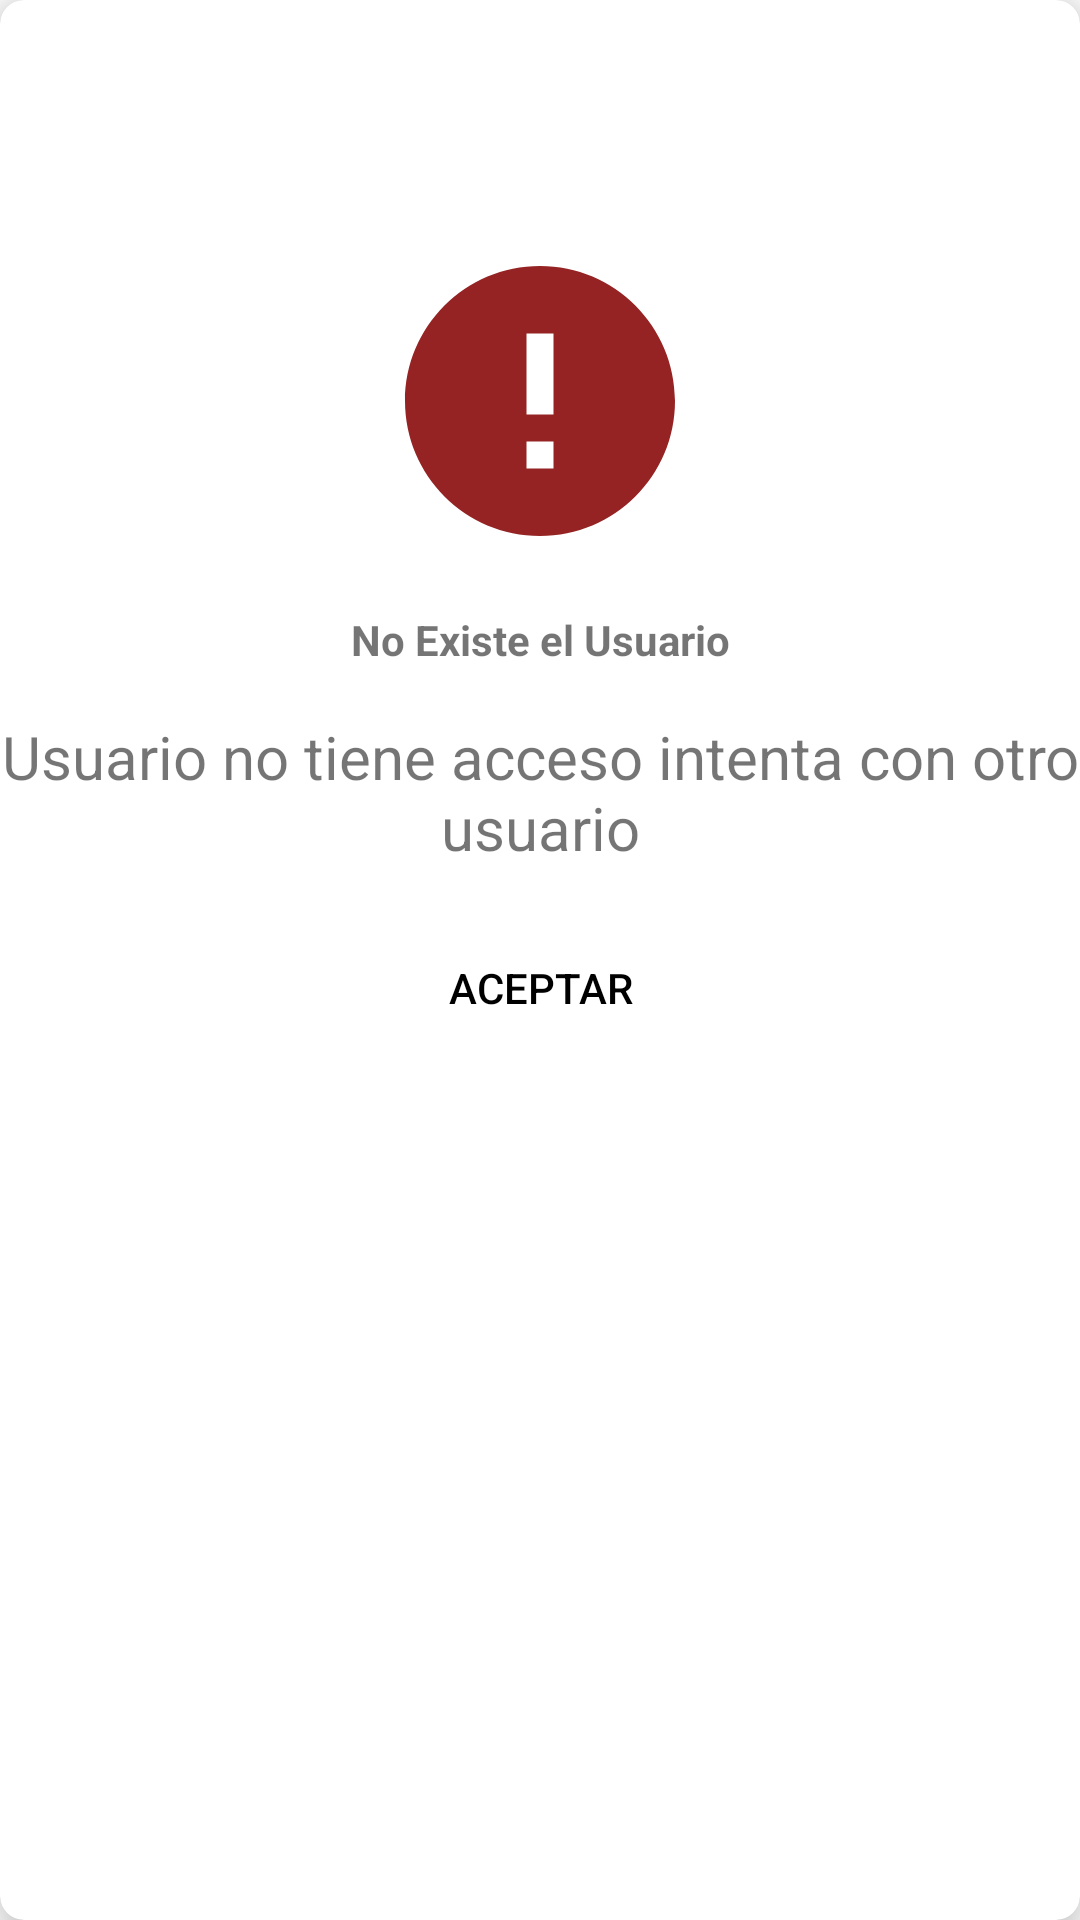

Where to tap for icons on this 1080 x 1920 app screen, as [x,y]:
error: [540,401]
